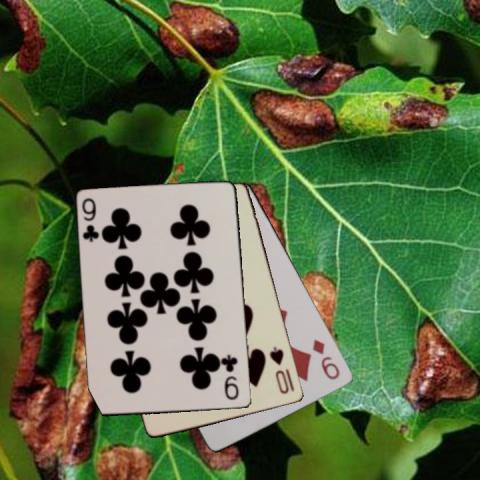10s: (266, 345, 290, 395)
9c: (79, 195, 101, 244), (222, 352, 241, 402)
9d: (310, 336, 342, 381)
